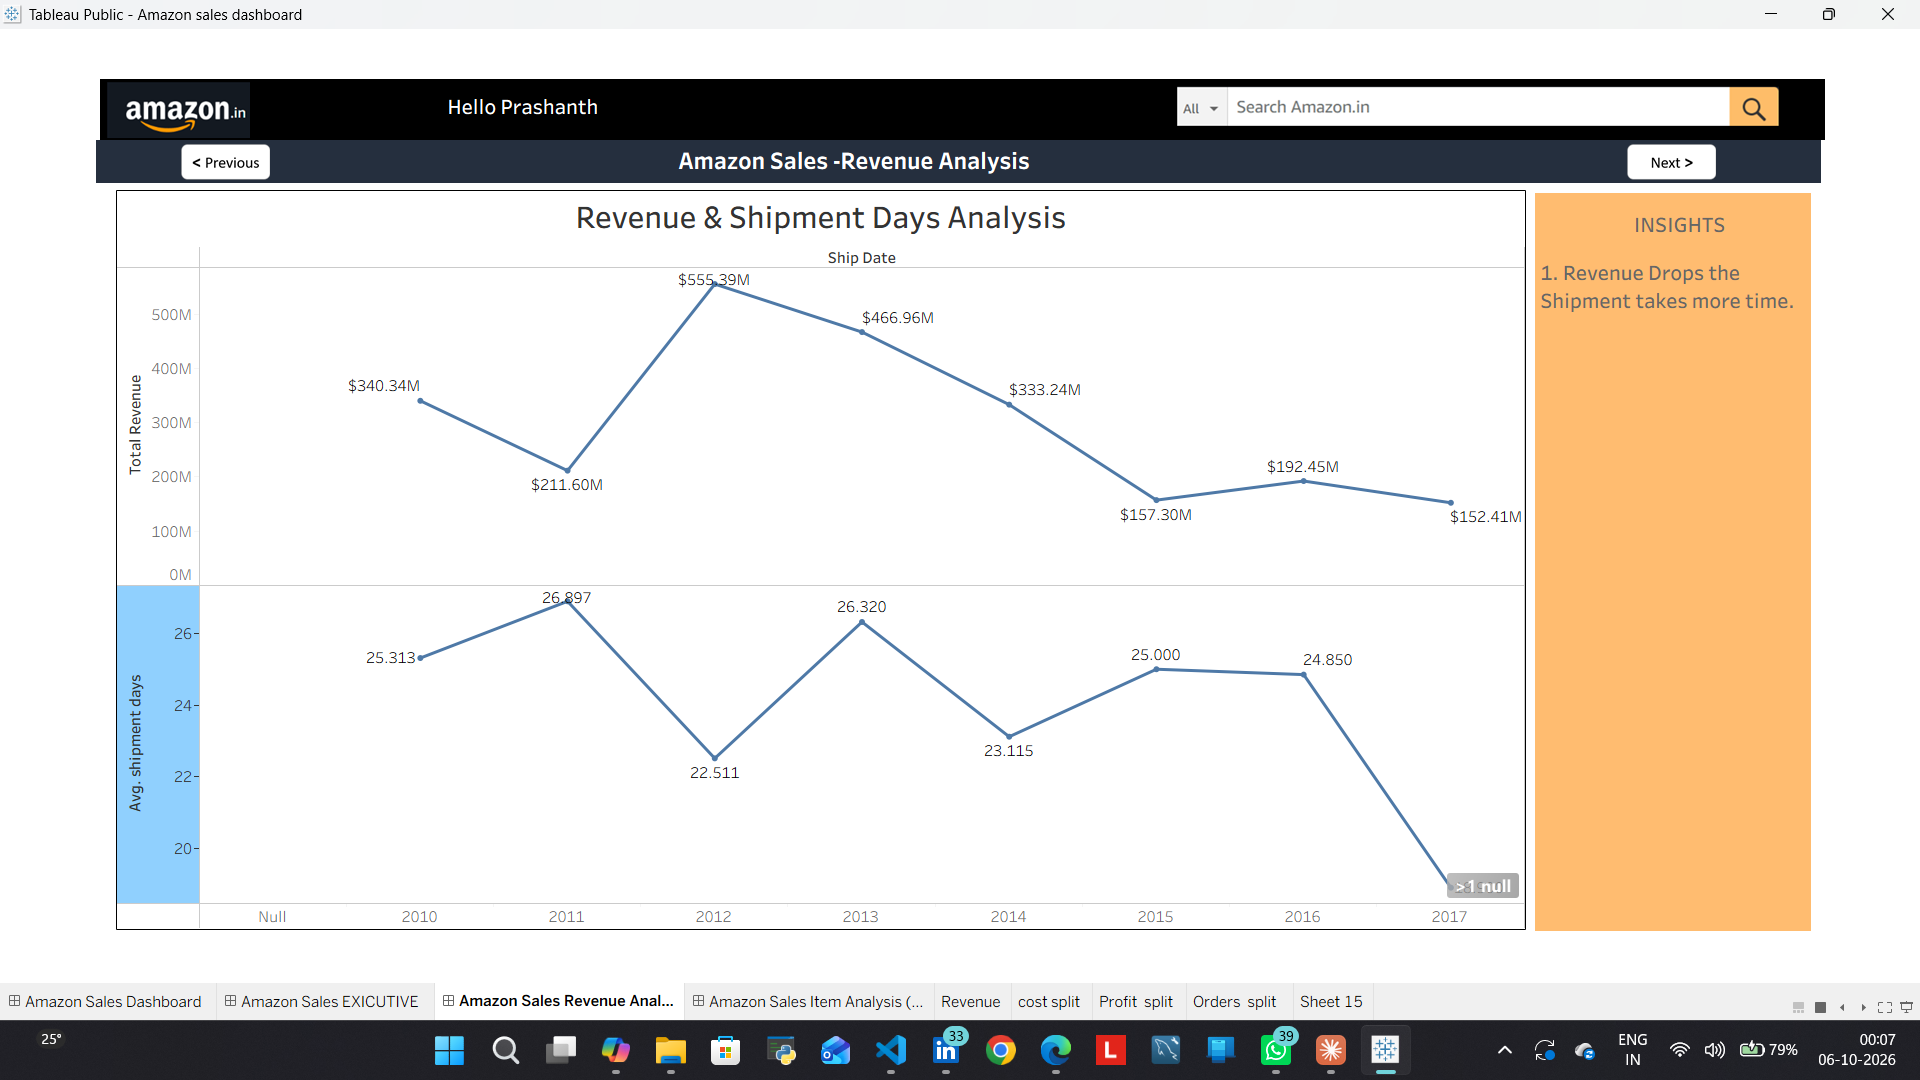

What the dashboard file says about the page in this screenshot:
{"tool":"tableau","page":{"name":"Amazon Sales Revenue Analysis","canvas":[1000,1000],"units":"permille","ordinal":3},"visuals":[{"type":"blank","box":[0,3.5,1003,70.5]},{"type":"text","box":[199.9,5.9,133.7,58.8]},{"type":"image","param":"Image/amazon.png","box":[4.2,7,125.2,64.6]},{"type":"dashboard-object","box":[29.5,78.7,86.1,45.8]},{"type":"dashboard-object","box":[870.6,78.7,86.1,45.8]},{"type":"text","box":[334.1,79.9,218.5,35.2]},{"type":"worksheet","title":"Sheet 11","mark":"Automatic","rows":["Total Revenue","Calculation_1719936009453569"],"cols":["Ship Date"],"box":[9,132.8,820,860.2]},{"type":"text","box":[877.2,135.1,81.9,74]},{"type":"blank","box":[834.4,136.3,160.8,857.8]},{"type":"text","box":[835.6,198.6,158.3,91.7]}]}

Visuals, with their boxes on the dashboard's canvas, which has no fixed pixel size, in thousandths of its width and height (x1, y1, x2, y2). These are canvas units, not pixel positions in the 1920x1080 screenshot, which may show the page scaled, cropped or inside an application window:
blank: bbox=(0, 4, 1003, 74)
text: bbox=(200, 6, 334, 65)
image: bbox=(4, 7, 129, 72)
dashboard-object: bbox=(30, 79, 116, 124)
dashboard-object: bbox=(871, 79, 957, 124)
text: bbox=(334, 80, 553, 115)
"Sheet 11" worksheet: bbox=(9, 133, 829, 993)
text: bbox=(877, 135, 959, 209)
blank: bbox=(834, 136, 995, 994)
text: bbox=(836, 199, 994, 290)
